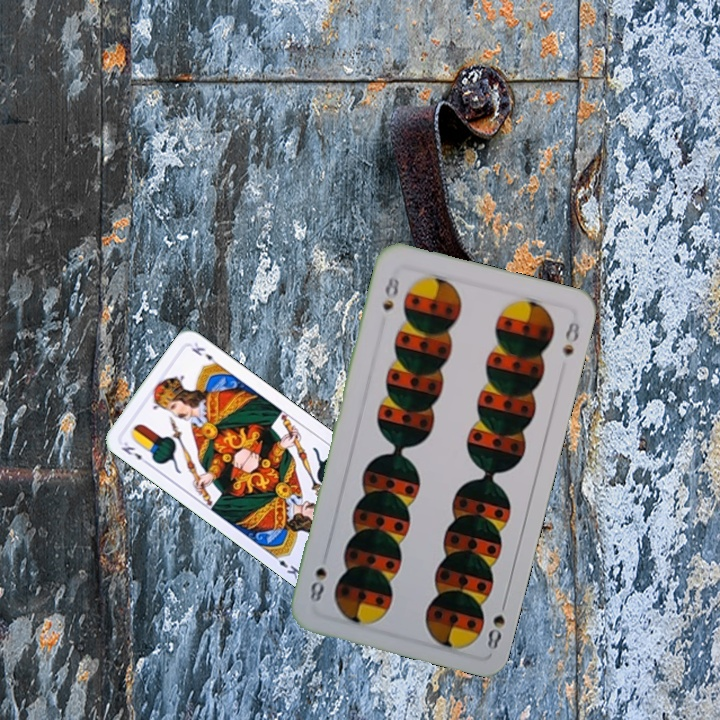EK: (117, 438, 152, 466)
S8: (483, 594, 510, 652), (378, 270, 403, 314)
